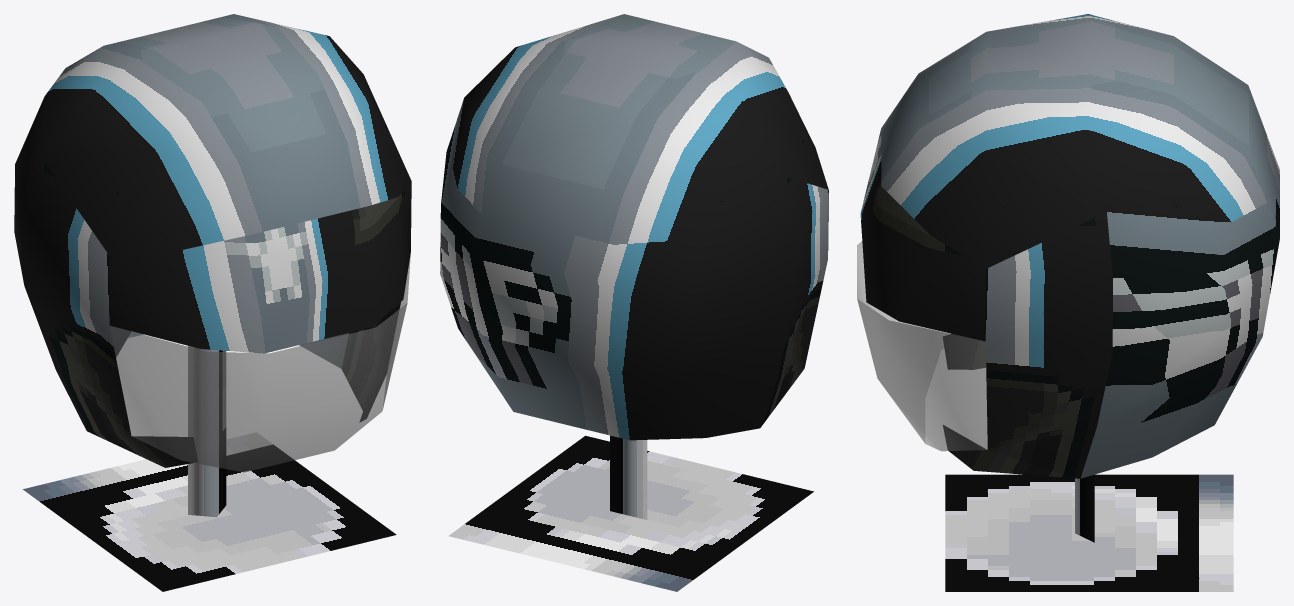
3 views of the same model, side by side, from view 1: azimuth 30°, elevation 25°; view 2: azimuth 150°, elevation 25°; view 3: azimuth 270°, elevation 25° (orthographic). The views are drawn at different scales.
Visible parts, largest first — view 1: 2920head047_c; view 2: 2920head047_c; view 3: 2920head047_c.
Part boxes in pixels (x1,y1,x2,y2): 2920head047_c: [14, 14, 411, 591]; 2920head047_c: [440, 14, 828, 591]; 2920head047_c: [857, 14, 1279, 591].
Bounding box in the file's own units: 0.7012 × 0.9011 × 0.7043.
3 materials, 2 textured.
